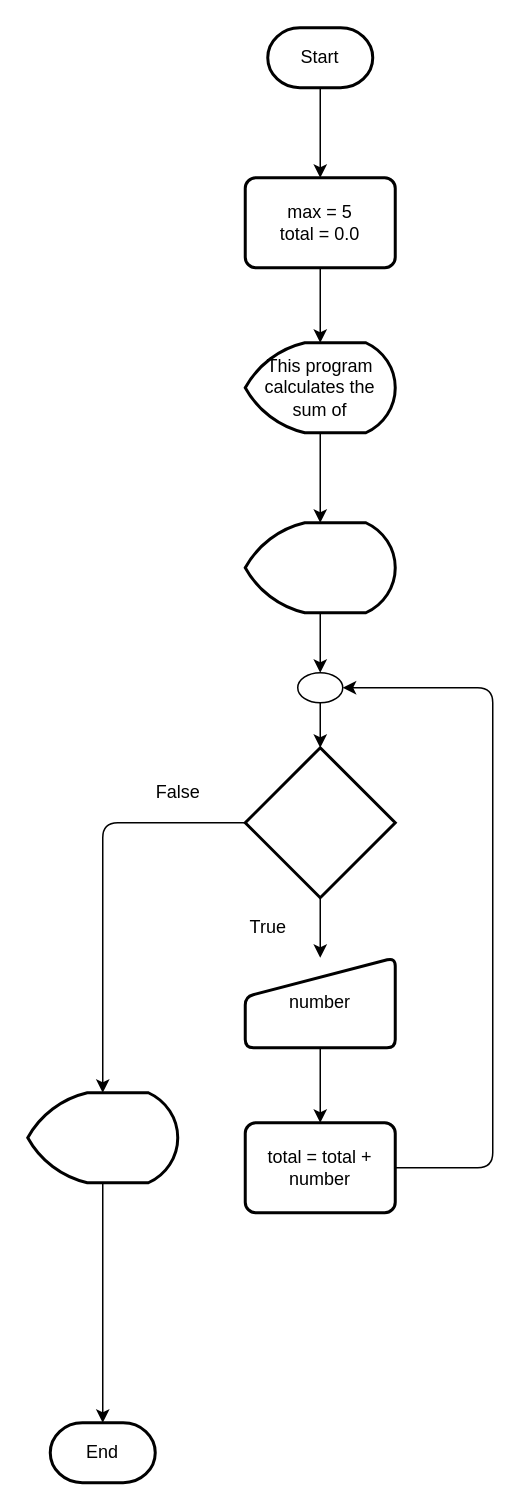
The diagram is 531 pixels wide and 1509 high, and some of its shapes have lost their labels. Each missing label, with the centre of its shape:
"counter in ranger(max)" goes at (319,822).
"number you will enter" goes at (319,567).
"The total" goes at (102,1137).
